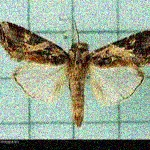Spodoptera litura: (1, 15, 149, 127)
